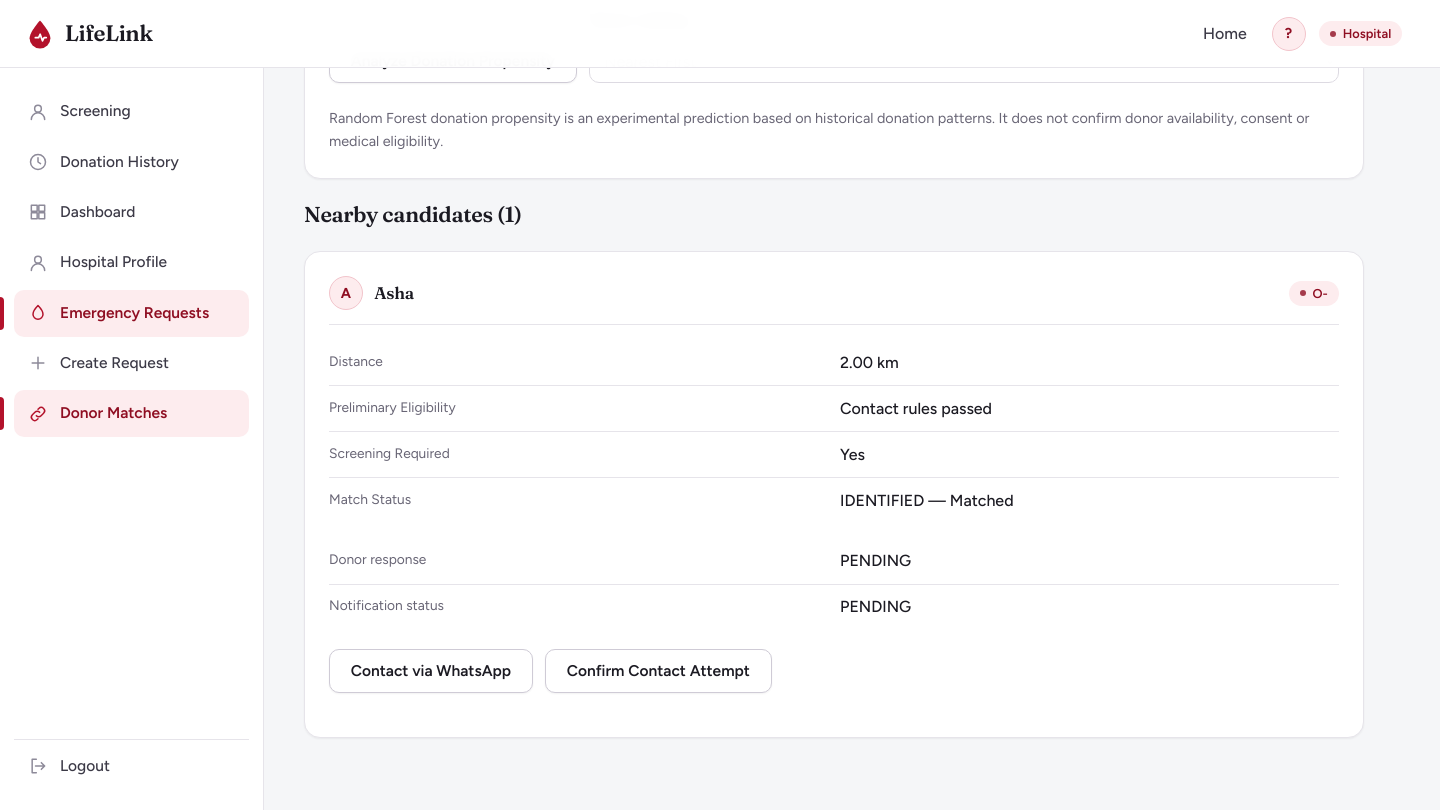
Scenario: rejects unexpected external navigation URLs
This screenshot has width=1440, height=810.
(page scrolled)
Click the button "Contact via WhatsApp": (431, 671) [329, 649, 533, 693]
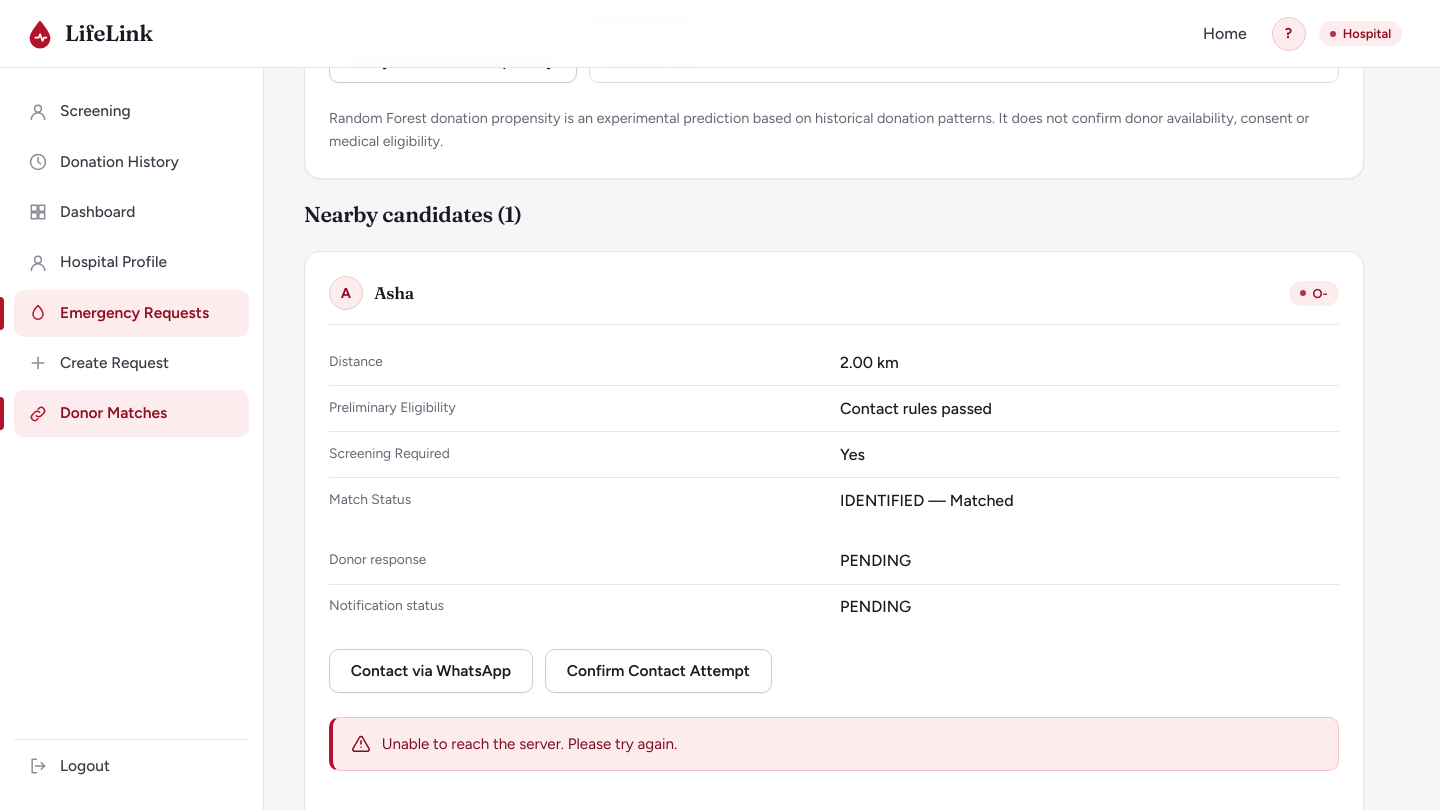
Expected: the message "Unable to reach the server. Please try again." is shown, [329, 717, 1339, 771]
